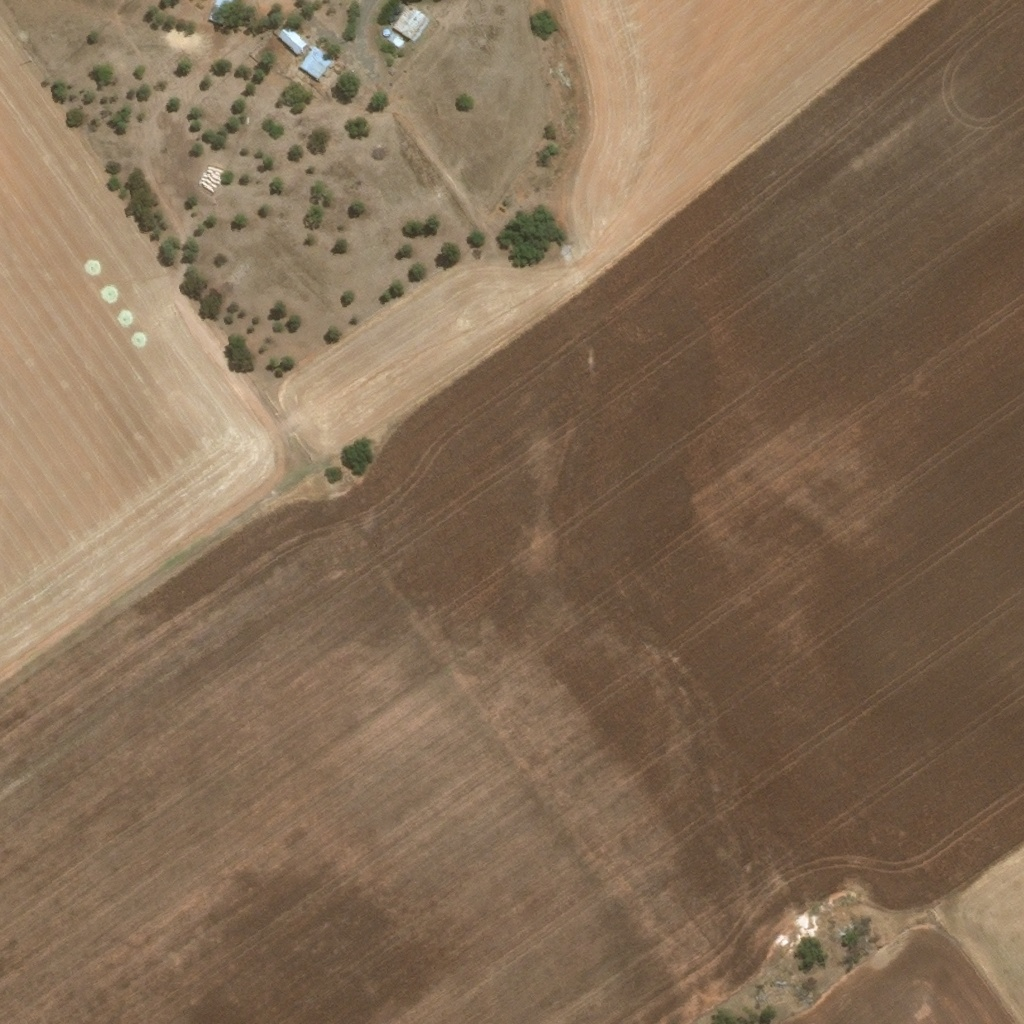0 no-damage: (299, 41, 334, 79), (392, 2, 427, 38), (278, 23, 307, 51), (390, 34, 404, 47), (381, 26, 390, 36)
